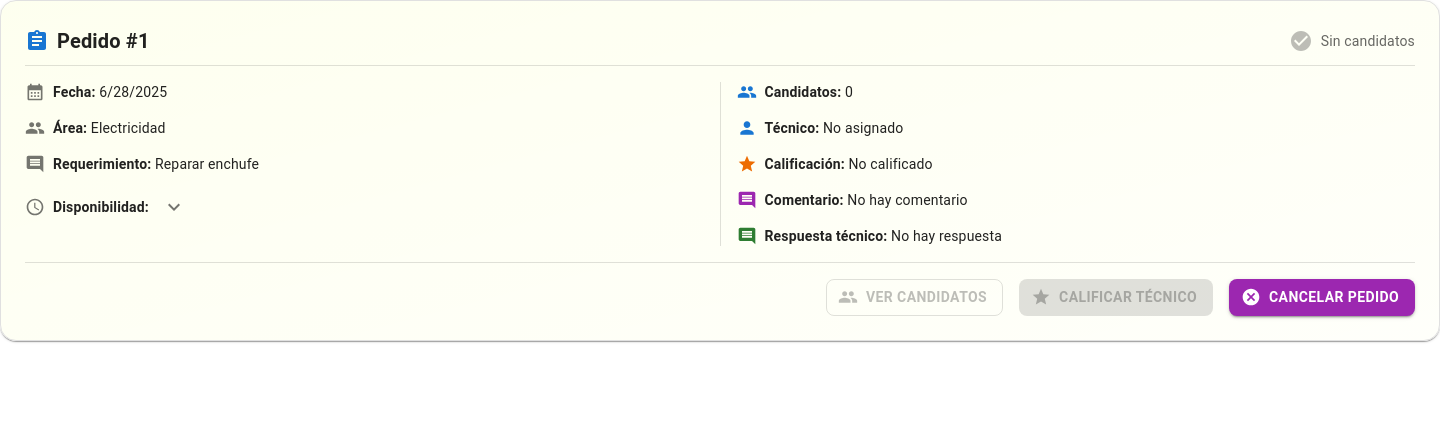
Test: PedidoCardCliente › muestra error si falla cancelar el pedido
What coordinates should you click on to do the following:
click the button "Cancelar Pedido"
I would click on:
 (1322, 297)
Its box is [1229,279,1415,316].
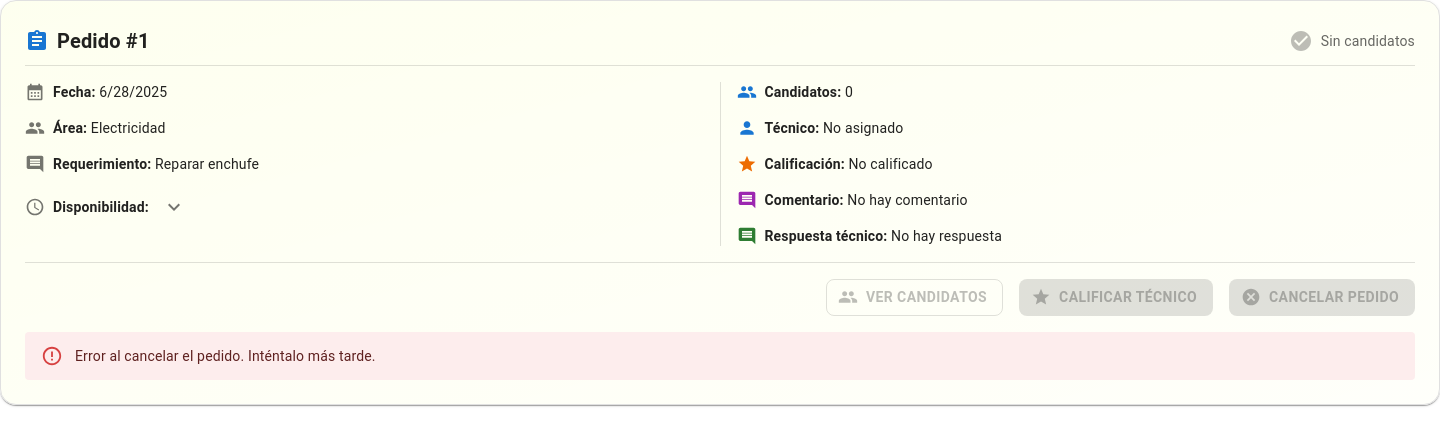
Expected: the text "Error al cancelar el pedido. Inténtalo más tarde." is shown, [75,348,376,364]
